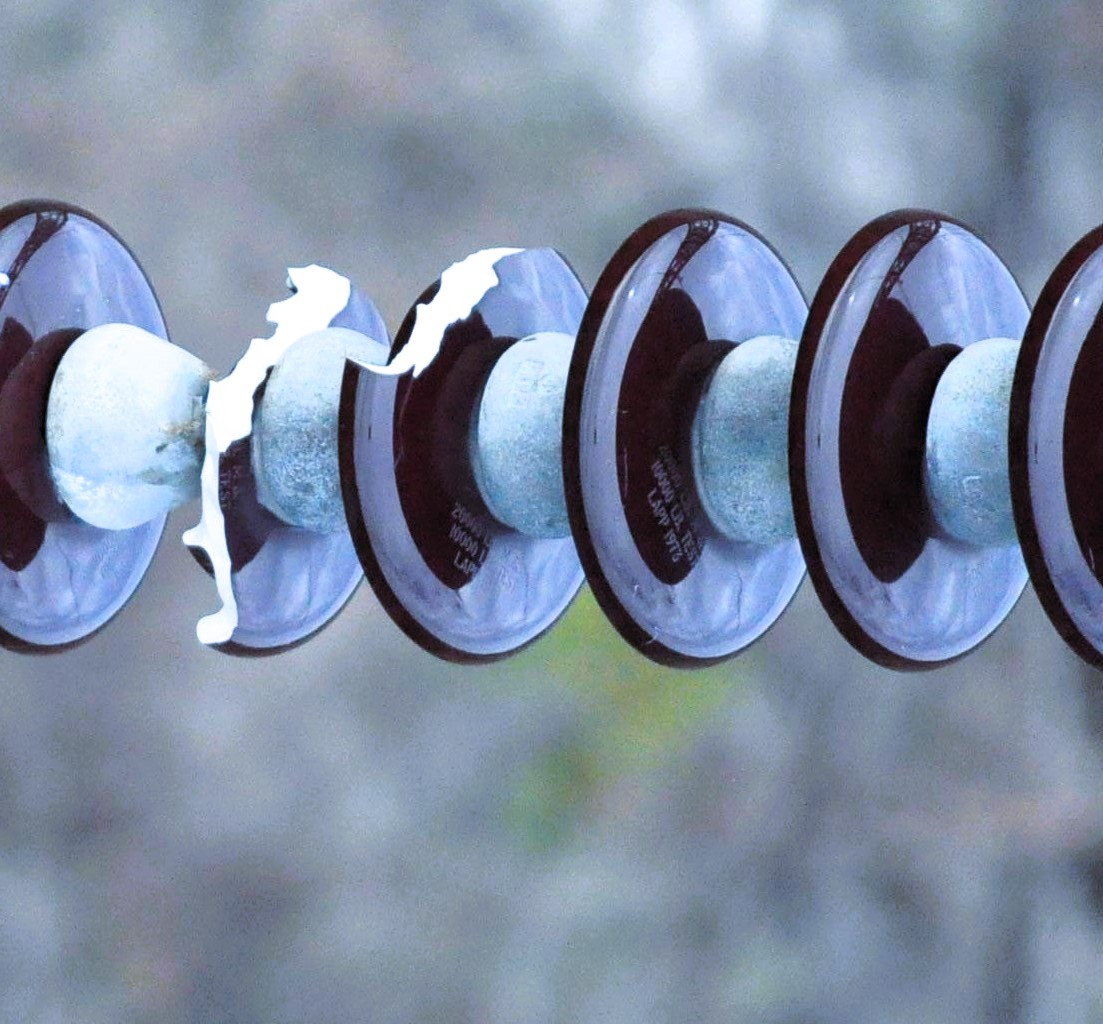insulator breakage: (360, 226, 583, 673), (173, 247, 355, 679)
